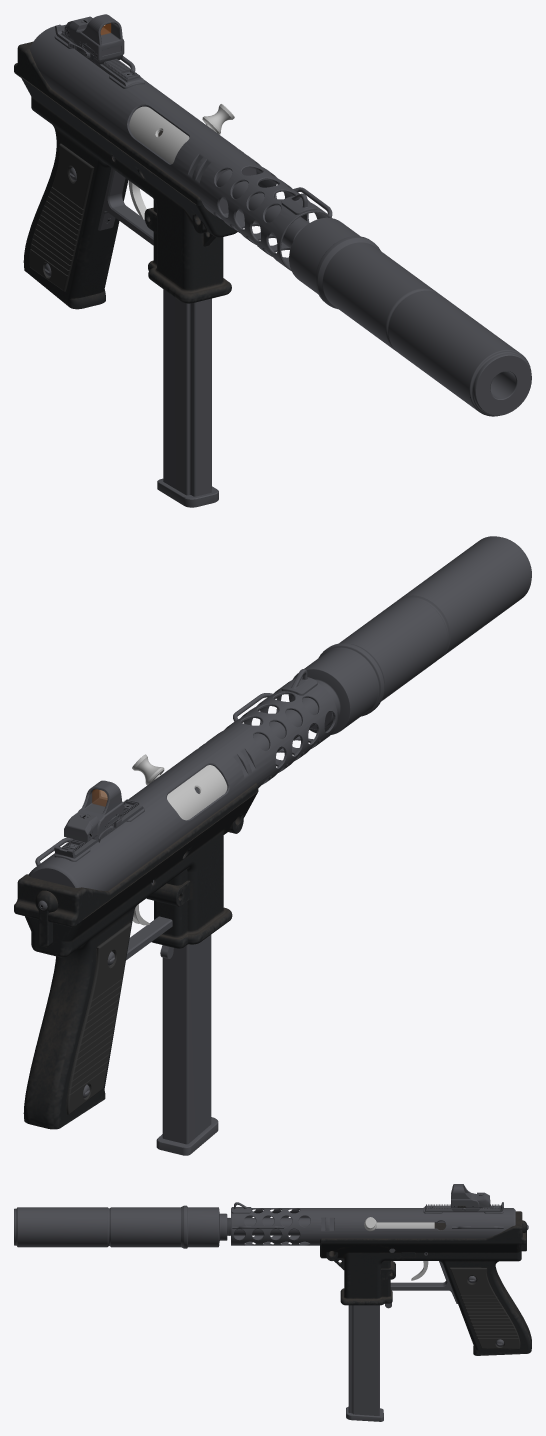
Rendered from tec-9_tactical_pistol.glb.
3 renders of one model, top to bottom at view 1: azimuth 30°, elevation 25°; view 2: azimuth 150°, elevation 25°; view 3: azimuth 270°, elevation 25°, orthographic. The views are drawn at different scales.
Parts seen in each view (by area): view 1: polySurface167, polySurface165; view 2: polySurface167, polySurface165; view 3: polySurface167, polySurface165.
Part boxes in pixels (bbox=[...]): polySurface167: bbox=[29, 14, 531, 507]; polySurface165: bbox=[14, 41, 237, 309]; polySurface167: bbox=[28, 536, 531, 1155]; polySurface165: bbox=[14, 757, 258, 1129]; polySurface167: bbox=[14, 1184, 528, 1421]; polySurface165: bbox=[320, 1211, 531, 1355].
Size of the model in its own units: 0.0154 by 0.0739 by 0.1495.
Materials: 8 (2 with a texture image).
